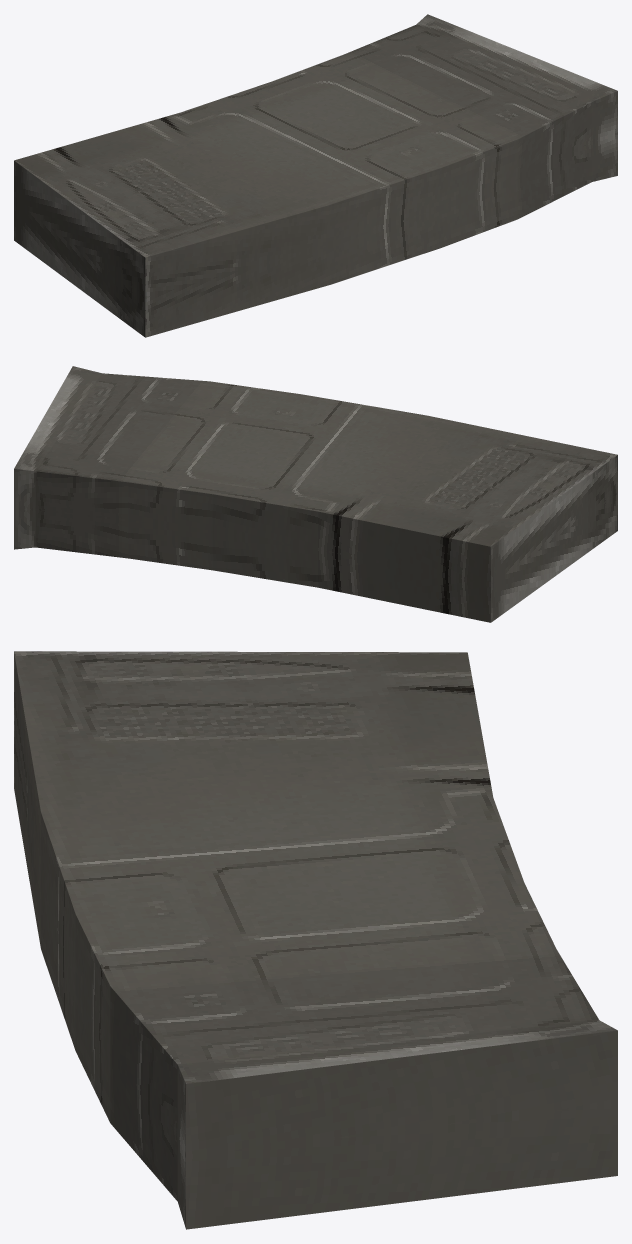
Rendered from khwarizMag.glb.
3 views of the same model, one above another, from view 1: azimuth 30°, elevation 25°; view 2: azimuth 150°, elevation 25°; view 3: azimuth 270°, elevation 25° (orthographic). The views are drawn at different scales.
Parts seen in each view (by area): view 1: Khwarizmi mag; view 2: Khwarizmi mag; view 3: Khwarizmi mag.
Boxes of the visible parts, x1,y1,x2,y2 form: Khwarizmi mag: (14,14,617,337); Khwarizmi mag: (14,366,617,622); Khwarizmi mag: (14,651,617,1229).
Bounding box in the file's own units: 0.277 × 0.043 × 0.1618.
Materials: 1 (1 with a texture image).
